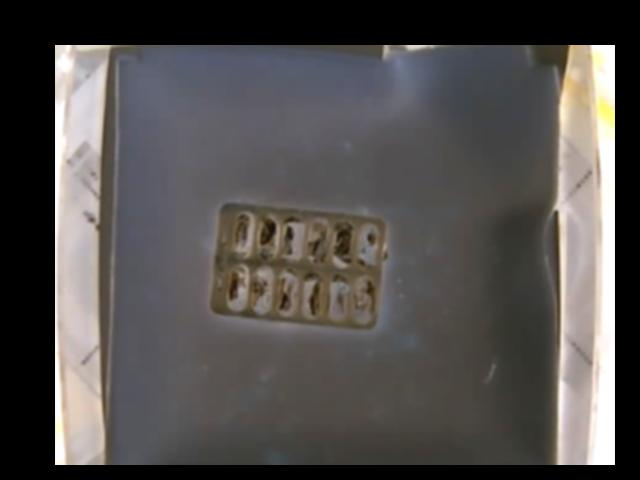Medicine: (210, 201, 384, 329)
